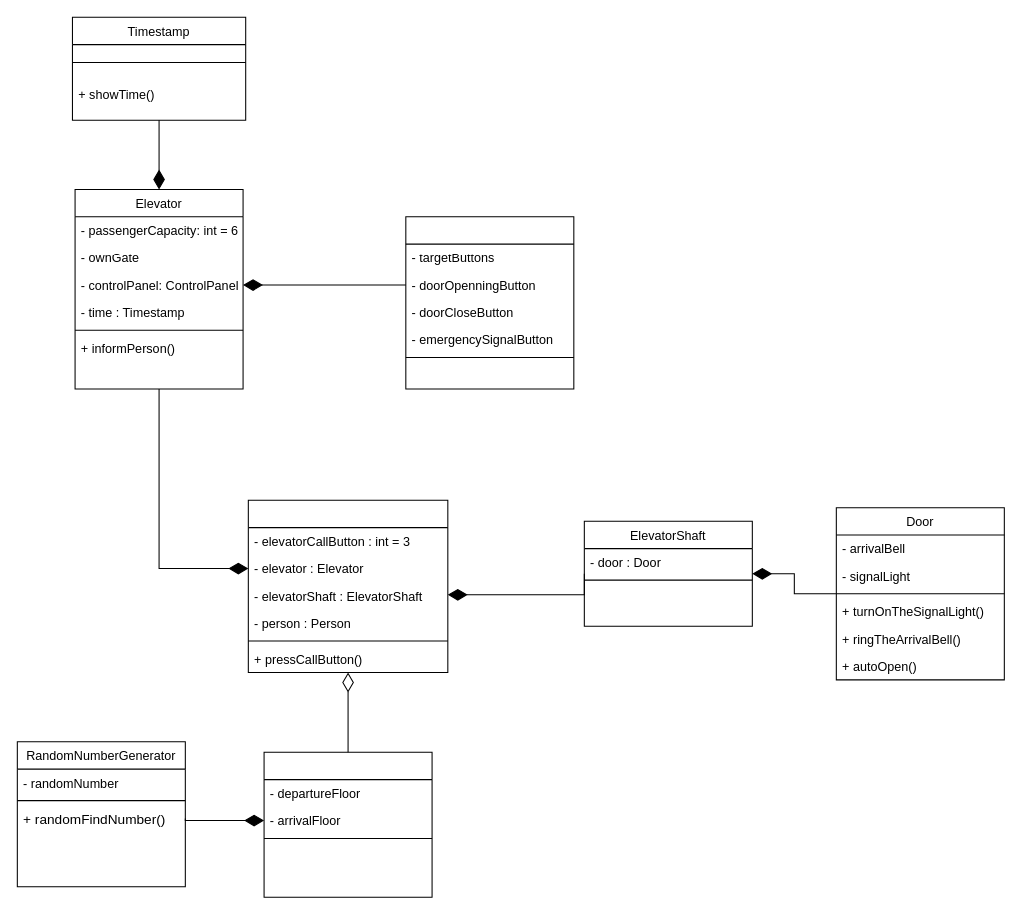
This 1022x915 diagram has some shape labels left out. Each missing label, with the box of its shape:
ControlPanel: (405, 216, 574, 389)
Floor: (247, 499, 448, 673)
Person: (263, 751, 432, 897)
